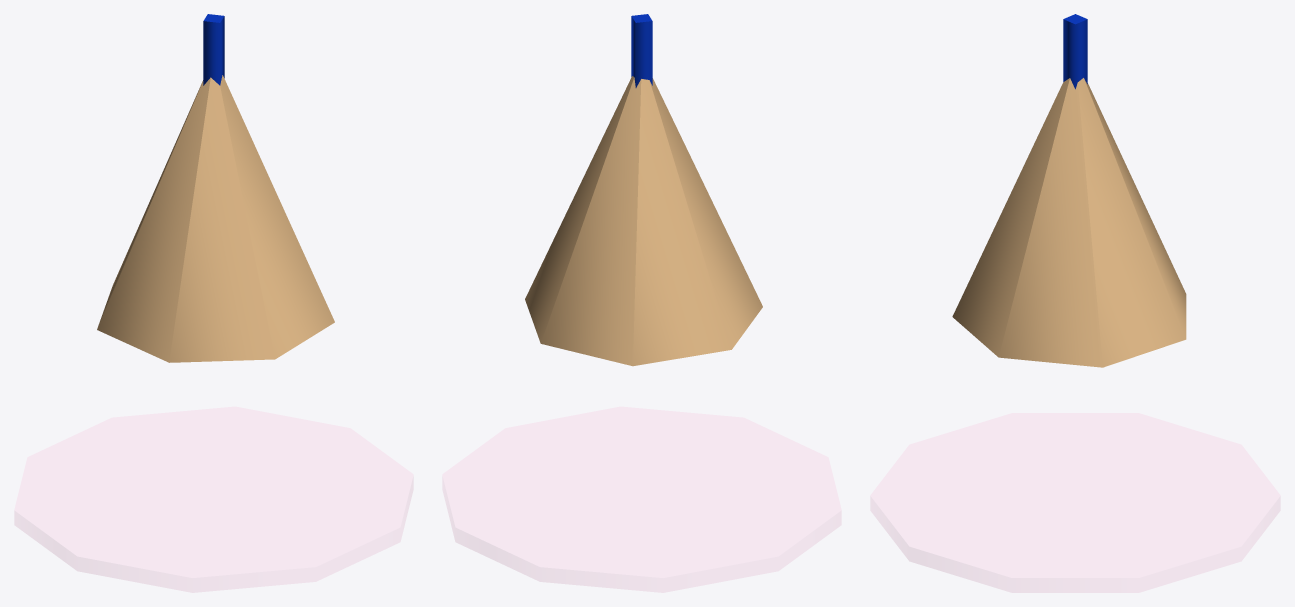
File: doner.glb
3 views of the same model, side by side, from view 1: azimuth 30°, elevation 25°; view 2: azimuth 150°, elevation 25°; view 3: azimuth 270°, elevation 25° (orthographic).
Size of the model in its own units: 0.9511 by 1.32 by 1.
